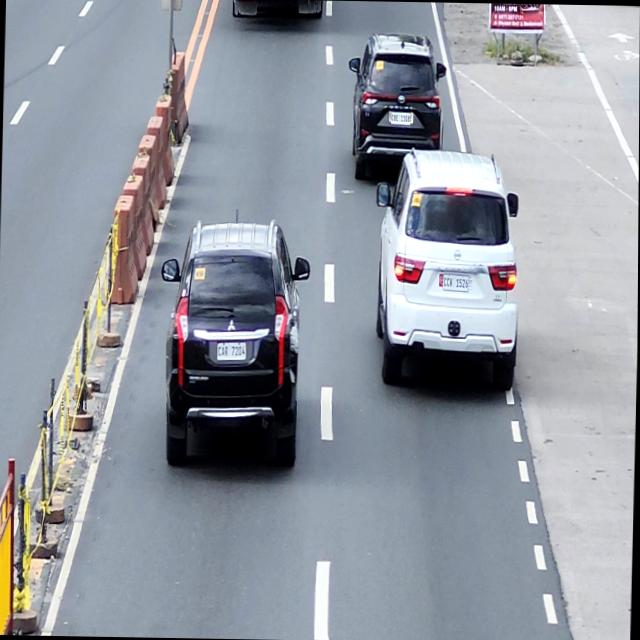Car: (156, 215, 311, 468), (372, 146, 522, 390), (345, 30, 447, 180)
License-Plate: (215, 338, 248, 362), (442, 272, 469, 293), (389, 108, 413, 128)
